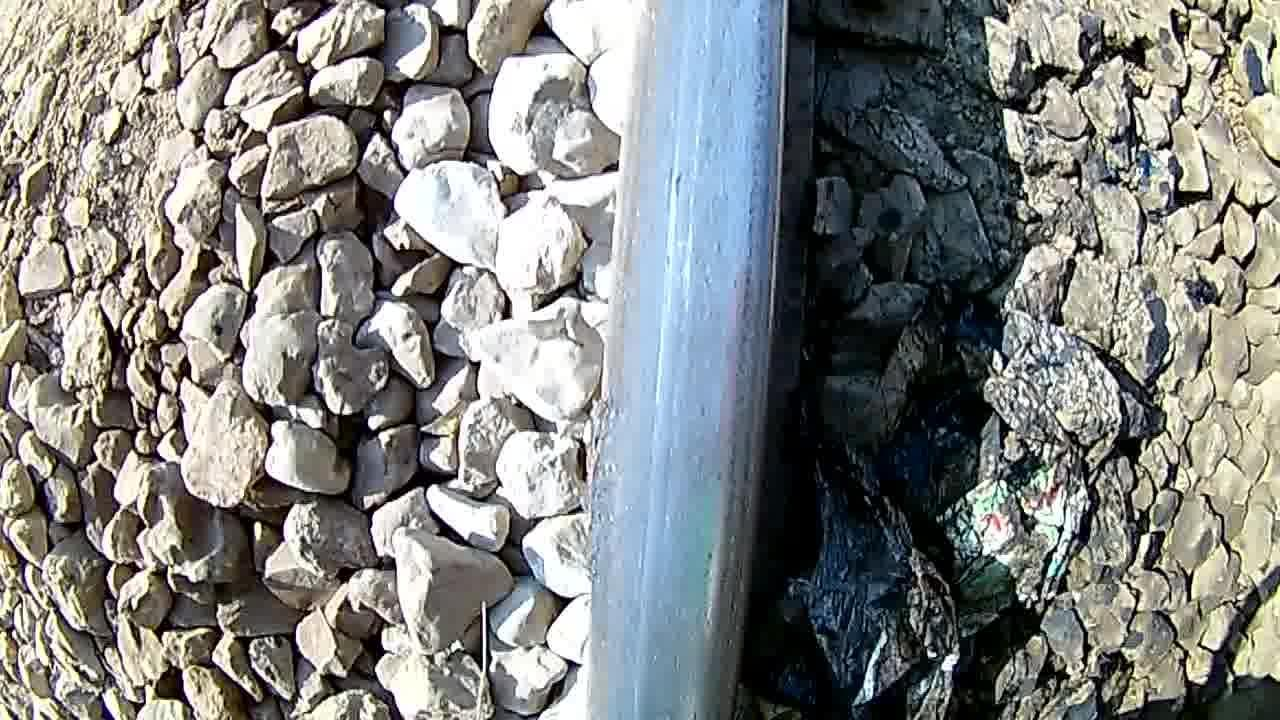crack: (592, 0, 792, 720)
